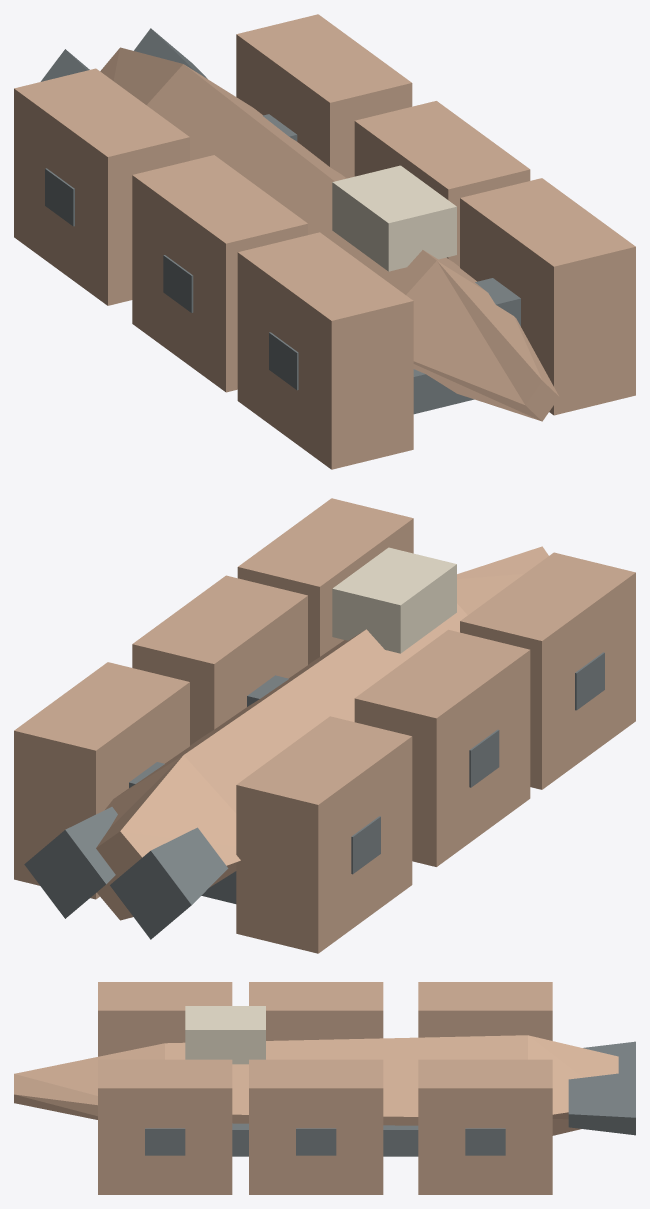
3 renders of one model, top to bottom at view 1: azimuth 30°, elevation 25°; view 2: azimuth 150°, elevation 25°; view 3: azimuth 270°, elevation 25°, orthographic. The views are drawn at different scales.
Bounding box in the file's own units: 3.64 × 1.95 × 8.89.
